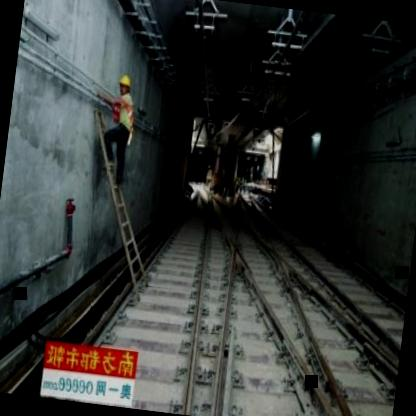helmet: (114, 70, 133, 98)
